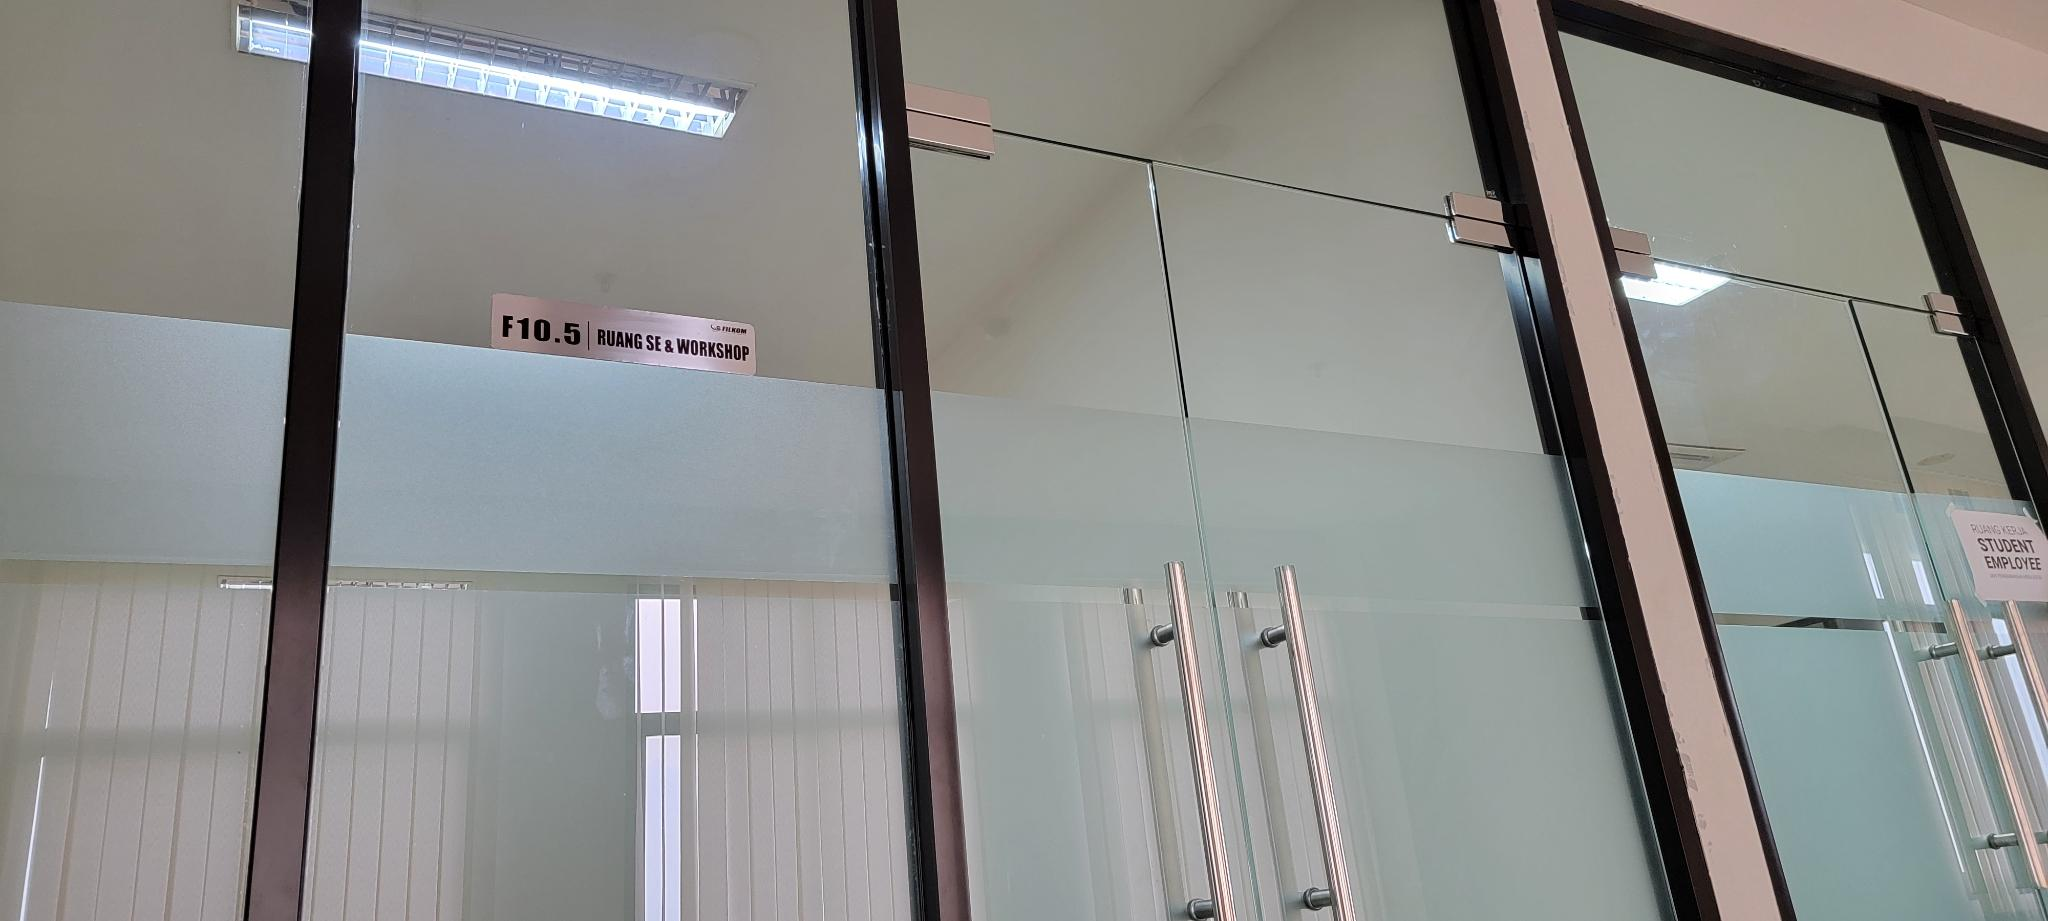plate: (487, 290, 756, 376)
